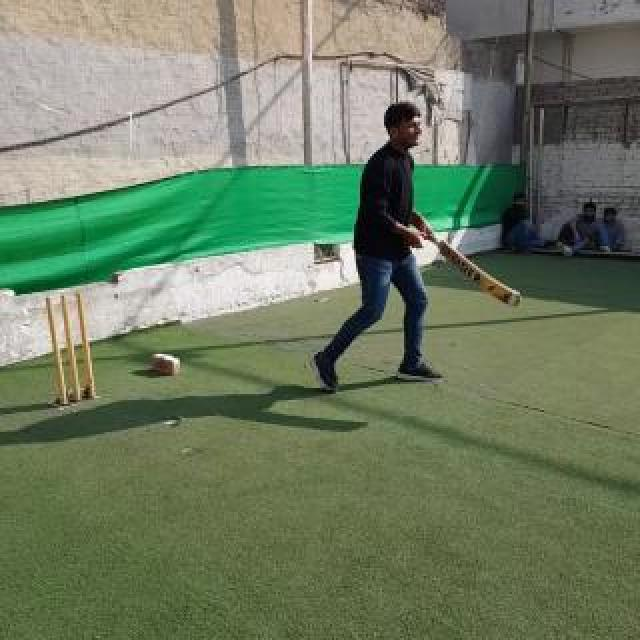bat: (422, 230, 522, 308)
